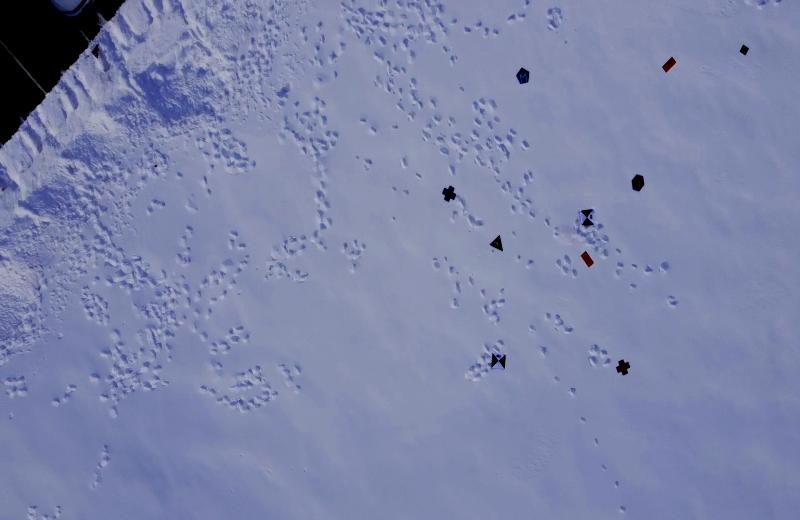Cross: (441, 184, 458, 202), (614, 358, 630, 377)
Hexagon: (630, 174, 646, 192)
Pentagon: (514, 67, 532, 87)
Rectangle: (661, 56, 678, 73), (581, 250, 594, 268)
Square: (738, 43, 751, 57)
Triangle: (489, 233, 505, 253)
